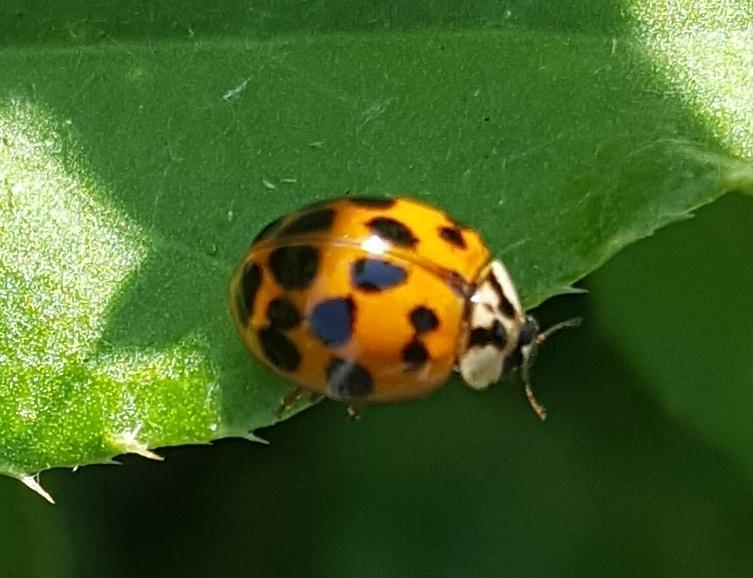ladybug: (226, 193, 594, 428)
